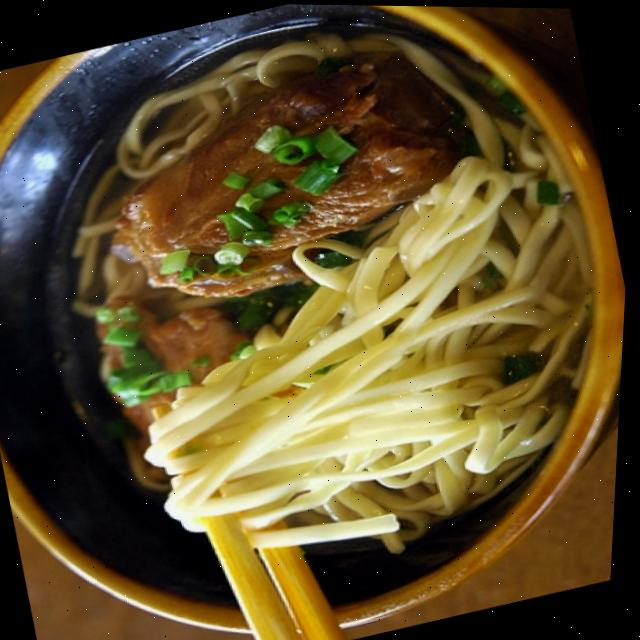三明治: (320, 46, 638, 459)
